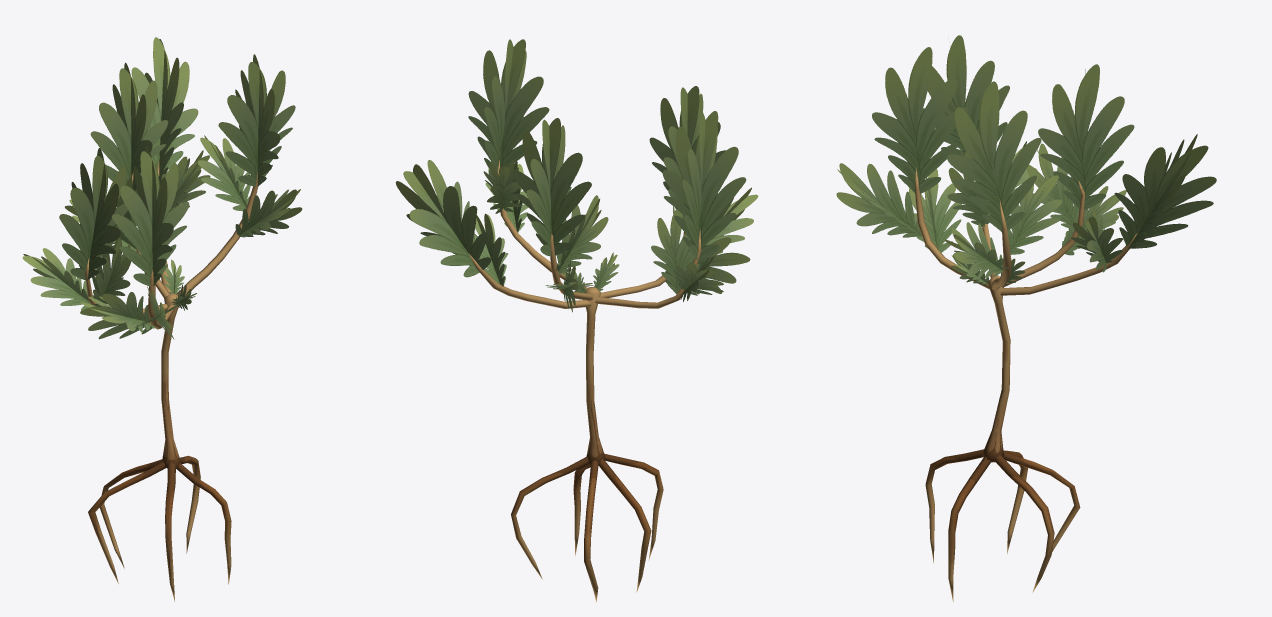
File: DTree3.fbx
The picture shows the model from 3 angles, left to right: view 1: azimuth 30°, elevation 25°; view 2: azimuth 150°, elevation 25°; view 3: azimuth 270°, elevation 25°; orthographic projection. The views are drawn at different scales.
Visible parts, largest first — view 1: G_D3Leafs, G_D3Trunk; view 2: G_D3Leafs, G_D3Trunk; view 3: G_D3Leafs, G_D3Trunk.
Boxes of the visible parts, x1,y1,x2,y2 form: G_D3Leafs: (22,37,302,339); G_D3Trunk: (85,160,257,601); G_D3Leafs: (396,39,758,312); G_D3Trunk: (469,160,701,602); G_D3Leafs: (836,35,1216,285); G_D3Trunk: (914,167,1137,601).
Bounding box in the file's own units: 808 × 1208 × 846.
